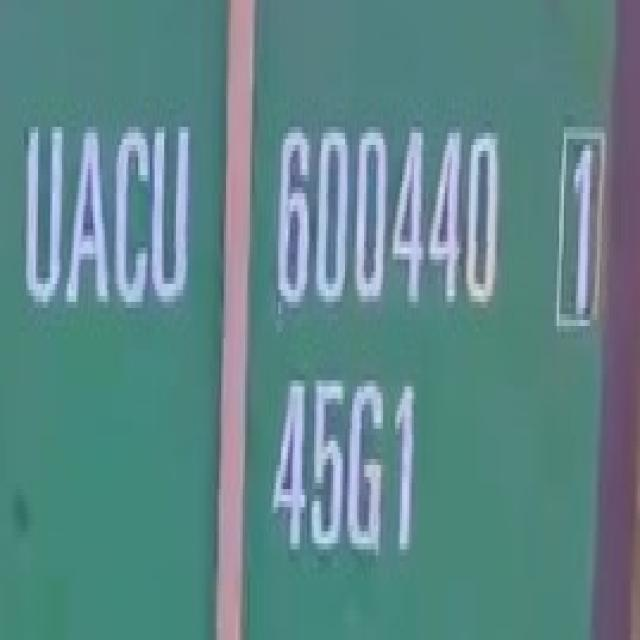dv: (549, 130, 618, 341)
owner: (19, 91, 194, 349)
serial: (264, 108, 514, 326)
size: (267, 354, 423, 588)
